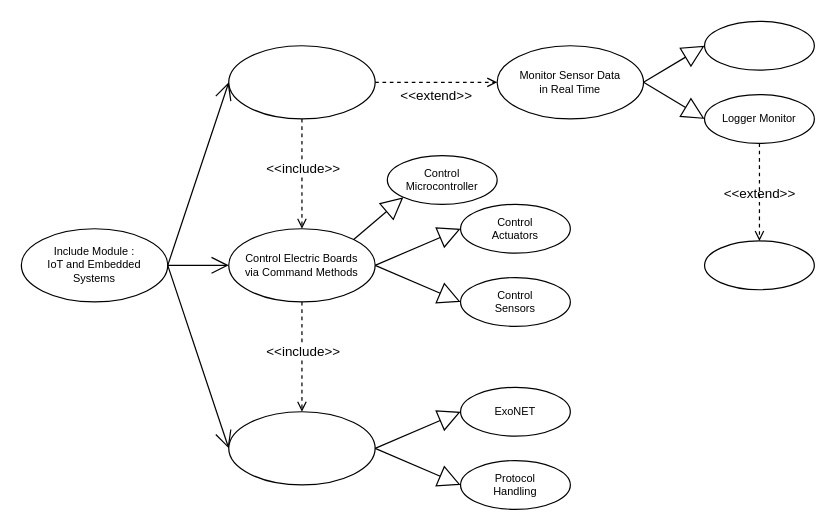
This 836x531 diagram has some shape labels left out. Each missing label, with the box of its shape:
Analyse Heat: (703, 240, 814, 290)
GUI Monitor: (703, 20, 814, 70)
Manage Communication Between IoT Devices: (228, 411, 375, 485)
QSSL Pre-Integrated Linux Kernel: (228, 45, 375, 119)
